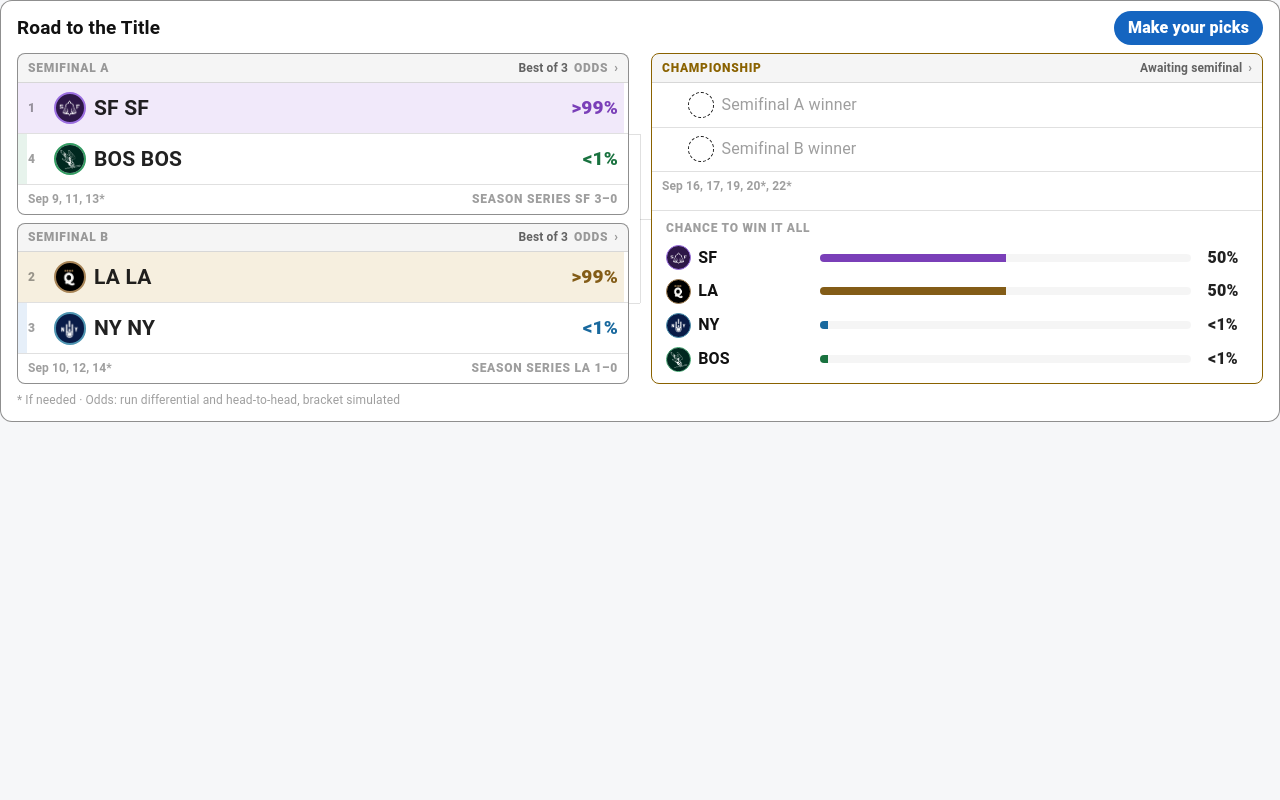
Test case: picking a series › asks for the semifinals before it will ask for the final
Click the button "Make your picks". click: (1188, 28)
box: [1114, 11, 1263, 45]
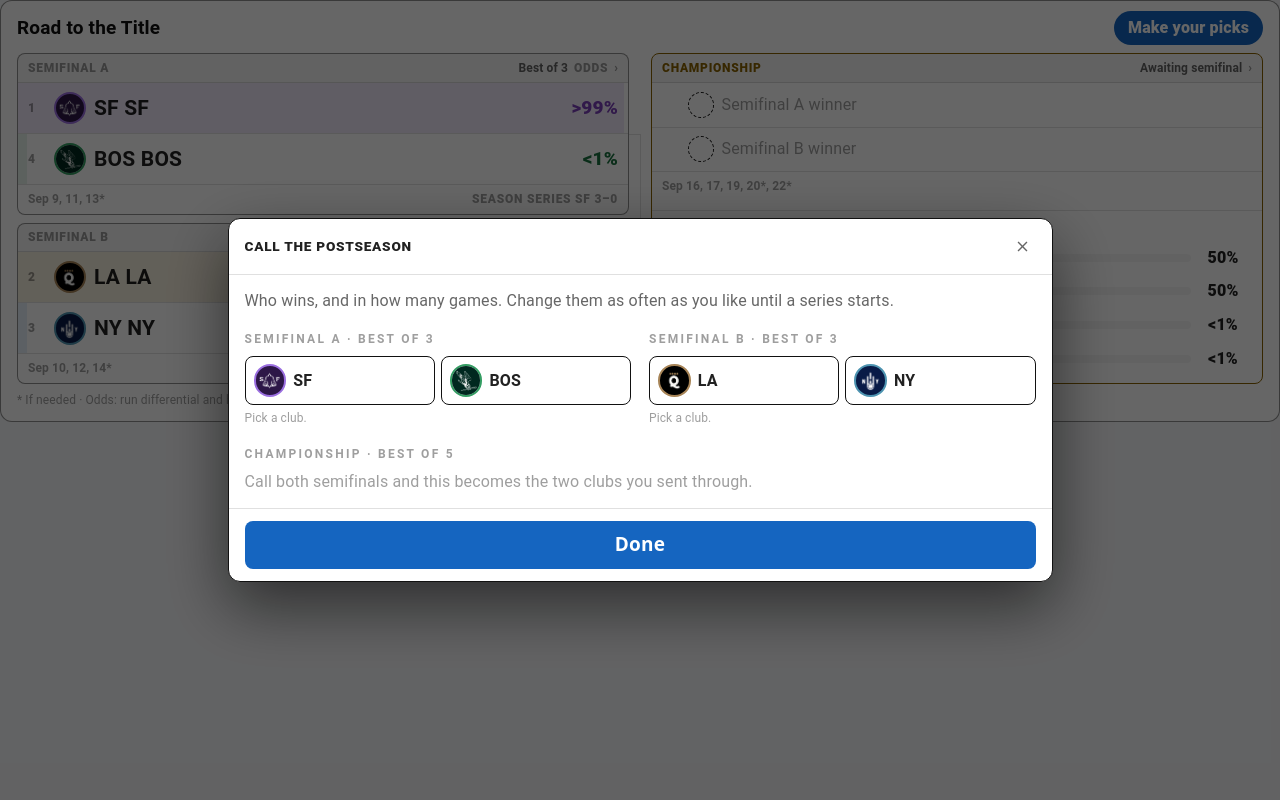
expect the text "Call the postseason" is shown: met, box [244, 238, 412, 254]
expect the text "Call both semifinals" is shown: met, box [244, 472, 753, 491]
